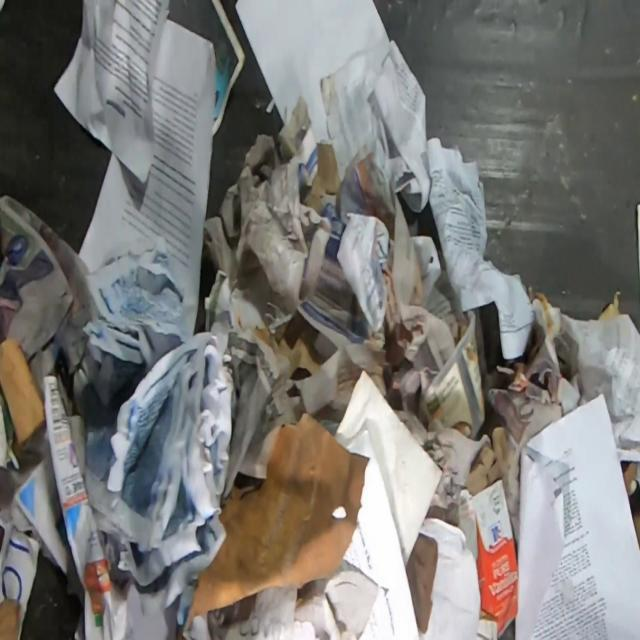cardboard: (449, 478, 519, 639), (0, 333, 46, 459), (301, 142, 340, 217), (620, 460, 640, 550), (0, 597, 22, 640), (598, 289, 621, 321)
rigid_plastic: (420, 308, 486, 439)
